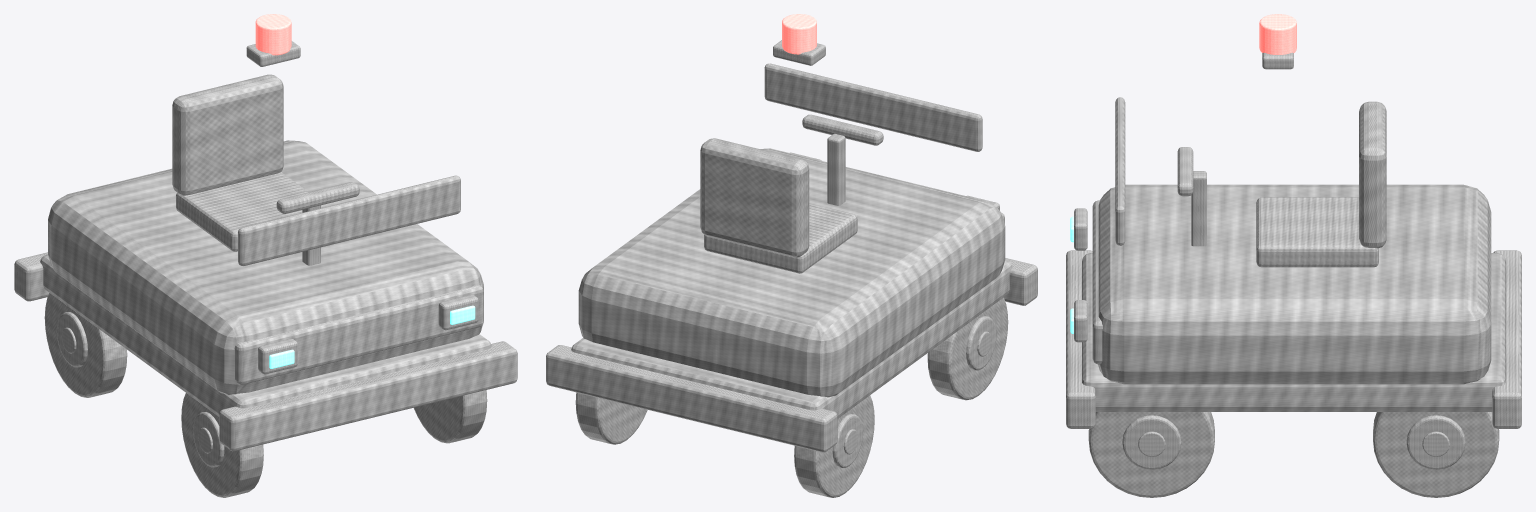
File: factory_cart_variant_d.glb
3 renders of one model, left to right at view 1: azimuth 30°, elevation 25°; view 2: azimuth 150°, elevation 25°; view 3: azimuth 270°, elevation 25°, orthographic. The views are drawn at different scales.
Visible parts, largest first — view 1: Low-profile shell, Front bumper.003, Driver seat back.003, Lower chassis.003, Low wind deflector, Front fascia.001, Driver seat base.003, Grip wheel.013, Grip wheel.012, Grip wheel.014, Siren lens.003, Steering wheel.003 (+6 smaller); view 2: Low-profile shell, Rear bumper.003, Driver seat back.003, Lower chassis.003, Low wind deflector, Grip wheel.012, Driver seat base.003, Grip wheel.013, Grip wheel.015, Steering column.003, Siren lens.003, Steering wheel.003 (+4 smaller); view 3: Low-profile shell, Lower chassis.003, Driver seat base.003, Grip wheel.014, Grip wheel.015, Driver seat back.003, Rear bumper.003, Front bumper.003, Wheel hub.014, Wheel hub.015, Low wind deflector, Siren lens.003 (+8 smaller).
Boxes of the visible parts, x1,y1,x2,y2 form: Low-profile shell: [48, 140, 483, 394]; Front bumper.003: [219, 341, 517, 451]; Driver seat back.003: [172, 74, 283, 195]; Lower chassis.003: [40, 254, 491, 416]; Low wind deflector: [238, 175, 460, 265]; Front fascia.001: [234, 284, 483, 384]; Driver seat base.003: [176, 172, 327, 251]; Grip wheel.013: [44, 293, 127, 397]; Grip wheel.012: [181, 393, 263, 497]; Grip wheel.014: [414, 390, 487, 443]; Siren lens.003: [255, 14, 291, 55]; Steering wheel.003: [276, 182, 359, 213]; Low-profile shell: [578, 148, 1005, 397]; Rear bumper.003: [546, 345, 837, 452]; Driver seat back.003: [700, 138, 809, 257]; Lower chassis.003: [571, 259, 1012, 418]; Low wind deflector: [764, 63, 982, 151]; Grip wheel.012: [927, 297, 1008, 400]; Driver seat base.003: [704, 203, 857, 273]; Grip wheel.013: [794, 395, 874, 497]; Grip wheel.015: [575, 392, 647, 444]; Steering column.003: [827, 133, 845, 205]; Siren lens.003: [782, 14, 816, 54]; Steering wheel.003: [802, 114, 883, 145]; Low-profile shell: [1098, 184, 1491, 384]; Lower chassis.003: [1082, 253, 1505, 411]; Driver seat base.003: [1256, 197, 1378, 267]; Grip wheel.014: [1088, 412, 1214, 497]; Grip wheel.015: [1373, 412, 1499, 497]; Driver seat back.003: [1359, 101, 1386, 248]; Rear bumper.003: [1492, 250, 1521, 428]; Front bumper.003: [1066, 250, 1095, 428]; Wheel hub.014: [1122, 415, 1181, 469]; Wheel hub.015: [1406, 415, 1465, 469]; Low wind deflector: [1115, 97, 1125, 245]; Siren lens.003: [1259, 14, 1296, 54].
Size of what is drawn, in the model's own units: 1.75 by 2.32 by 2.31.
Materials: 7 (7 with a texture image).
